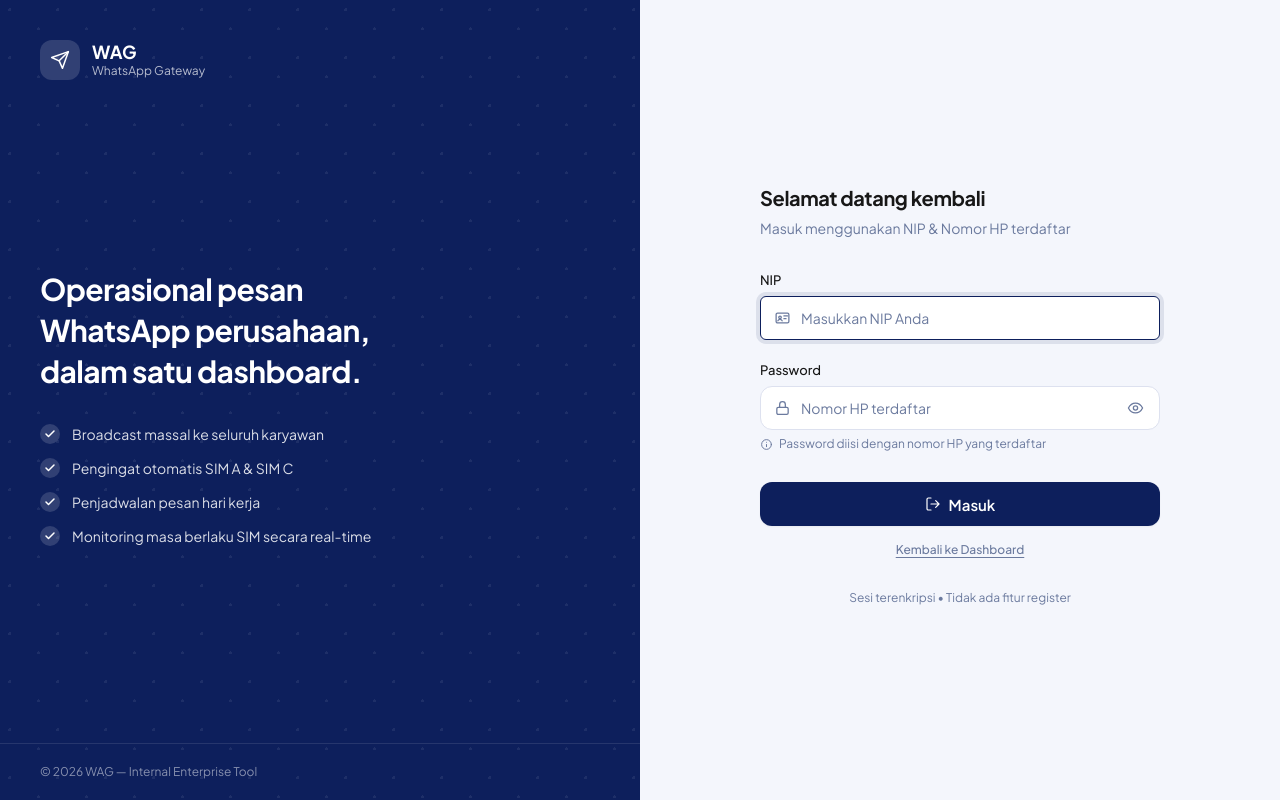
it: LoginPage › menampilkan pesan error saat NIP kosong
The width and height of the screenshot is (1280, 800).
Click the button "Masuk": (960, 504) [760,482,1160,526]
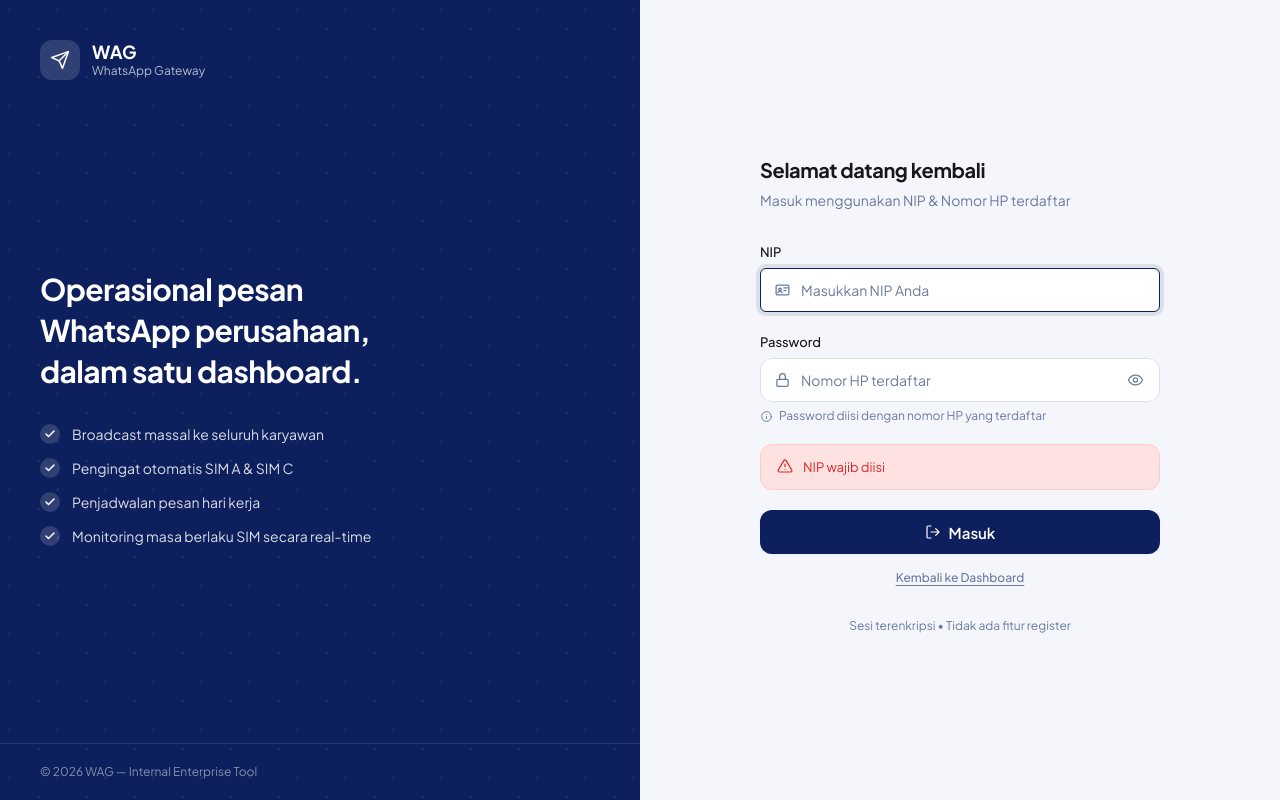
expect the text "NIP wajib diisi" is shown: met, box [760,444,1160,490]
